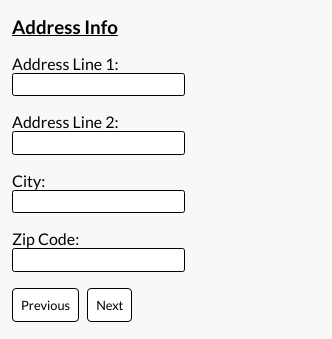
Test: successful forward step transitions and form submission › step three renders after step two
Type "123 Main St." into the field labelled "Address Line 1:" at (99, 85), box [12,73,185,96]
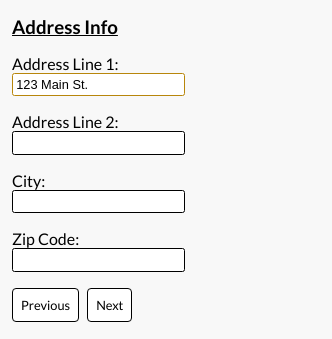
Type "Apt. C" into the field labelled "Address Line 2:" at (99, 143), box [12,131,185,155]
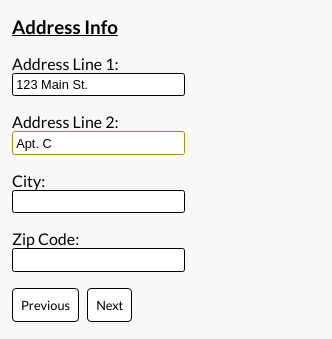
Type "Springfield" into the field labelled "City:" at (99, 202), box [12,190,185,213]
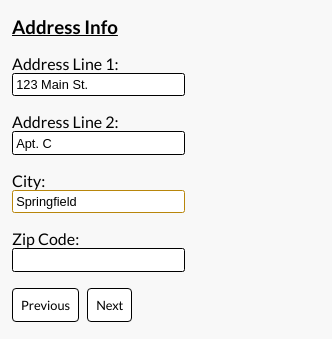
Type "12345" into the field labelled "Zip Code:" at (99, 260), box [12,248,185,272]
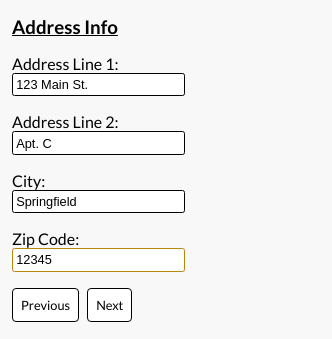
Click the button "Next" at (110, 304), box [87,288,132,322]
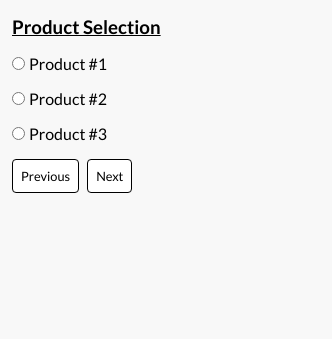
Result: the heading "Product Selection" is shown at [12,16,161,38]
